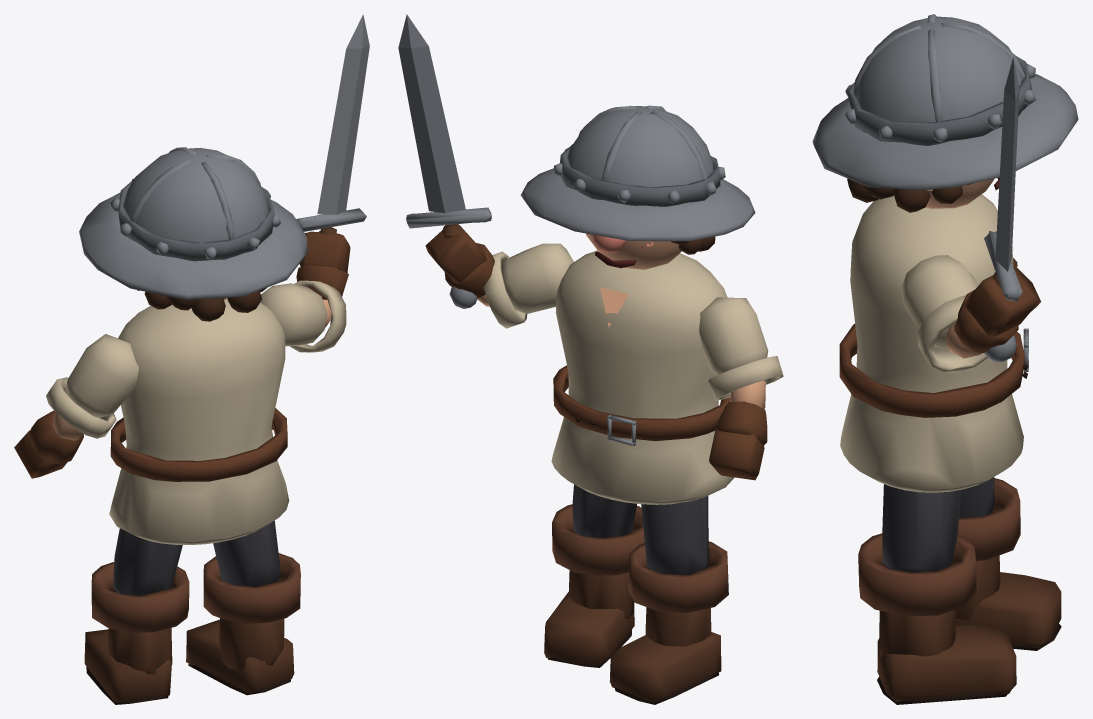
File: soldier.glb
3 renders of one model, left to right at view 1: azimuth 30°, elevation 25°; view 2: azimuth 150°, elevation 25°; view 3: azimuth 270°, elevation 25°, orthographic. The views are drawn at different scales.
Visible parts, largest first — view 1: Body.001, Leg-1.003, Leg1.003, Arm-1, Arm1; view 2: Body.001, Leg1.003, Arm-1, Leg-1.003, Arm1; view 3: Body.001, Leg-1.003, Arm-1, Leg1.003.
Boxes of the visible parts, x1,y1,x2,y2 form: Body.001: (79,147,307,544); Leg-1.003: (186,520,300,695); Leg1.003: (84,528,189,704); Arm-1: (260,14,369,352); Arm1: (14,334,138,478); Body.001: (520,105,755,504); Leg1.003: (609,496,728,704); Arm-1: (398,14,573,328); Leg-1.003: (544,484,644,667); Arm1: (699,297,783,480); Body.001: (812,14,1078,492); Leg-1.003: (858,484,1016,704); Arm-1: (901,57,1039,372); Leg1.003: (955,477,1061,650).
Size of the model in its own units: 0.6938 by 1.14 by 0.3825.
